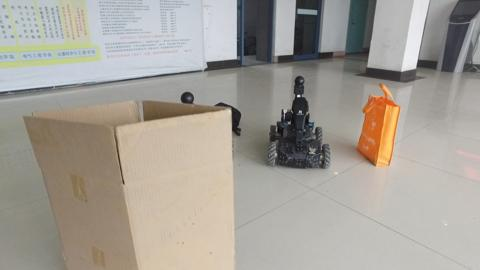bag: (360, 79, 397, 168)
chariot: (265, 74, 331, 172)
